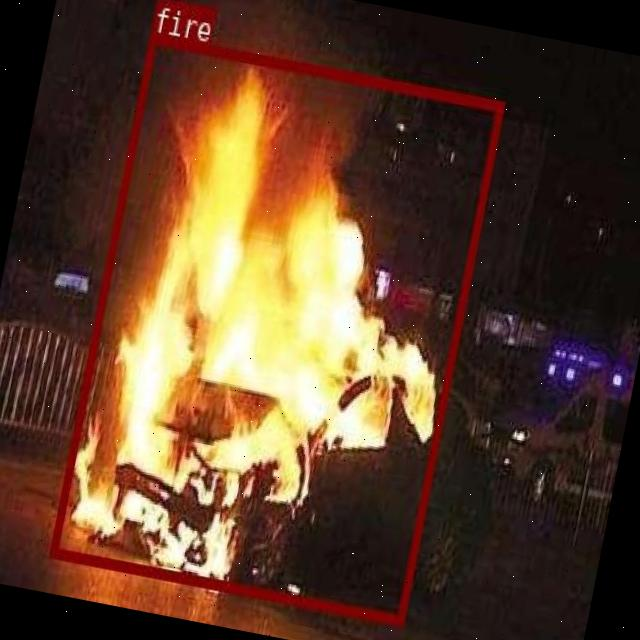fire: (48, 32, 503, 625)
